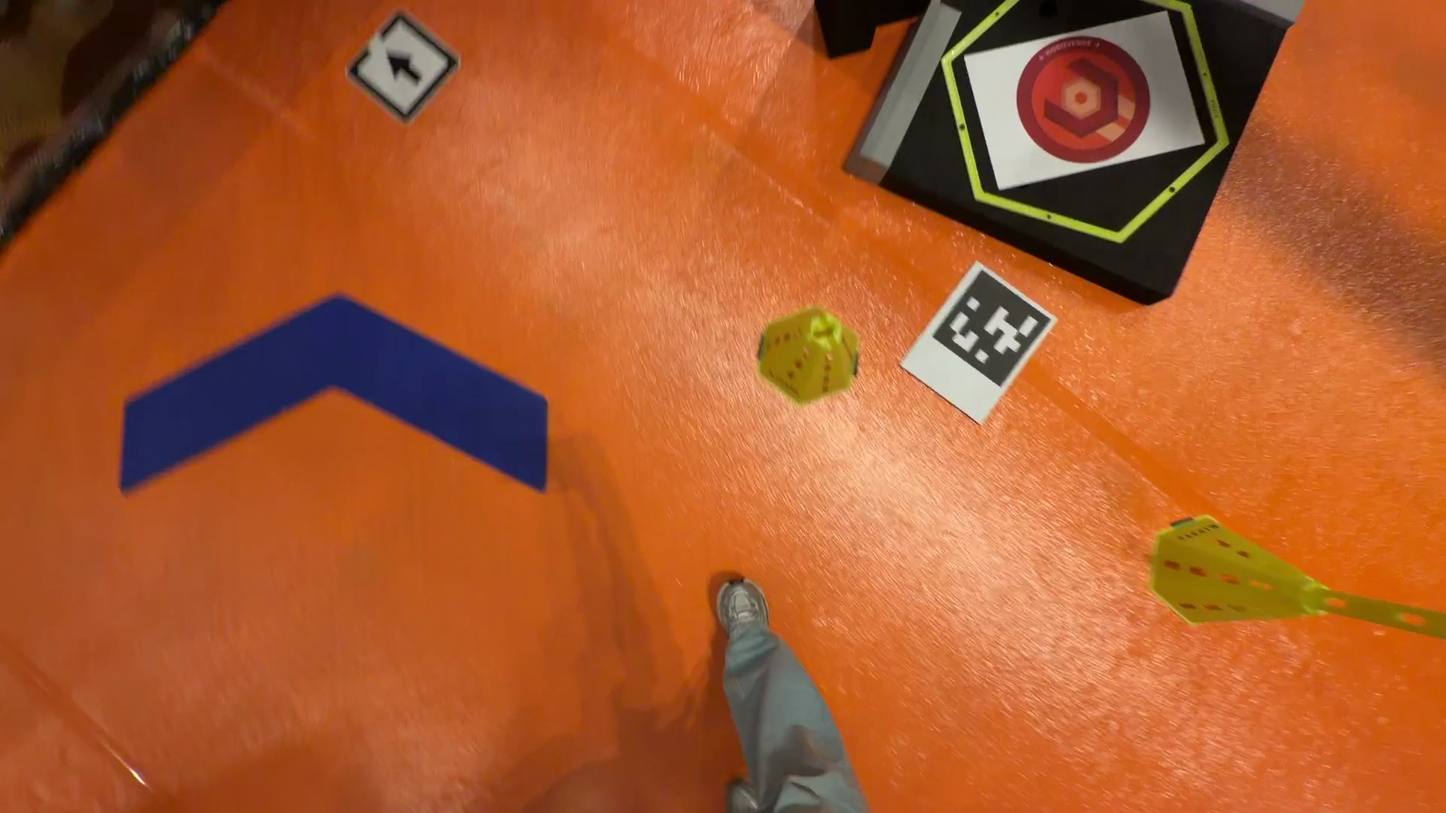landing_pad: (1017, 38, 1150, 164)
